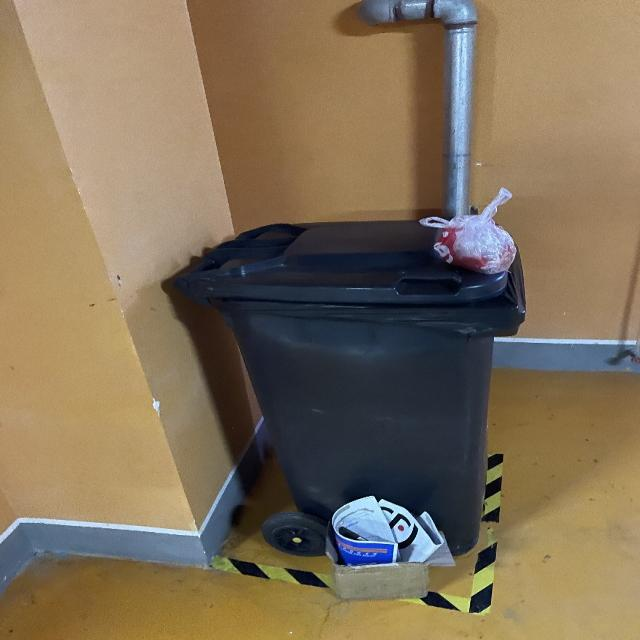garbage: (323, 495, 454, 599)
overflow: (174, 187, 525, 557)
